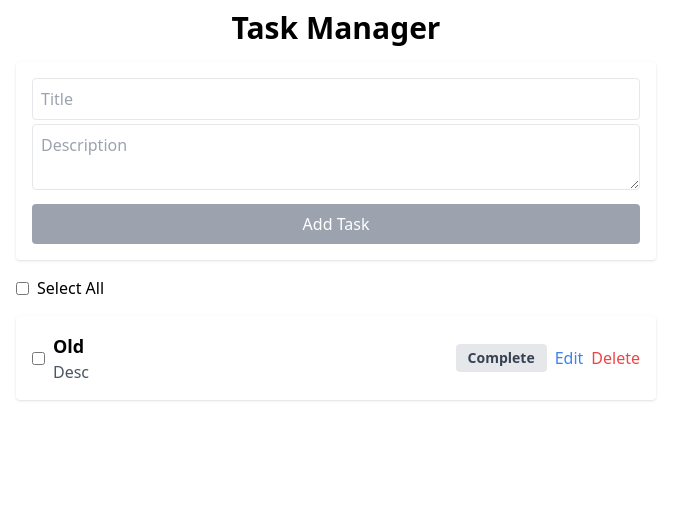
App Component › adds a new task and displays it
Type "Test Task" into the field with placeholder "Title" at (336, 99), box [32,78,640,120]
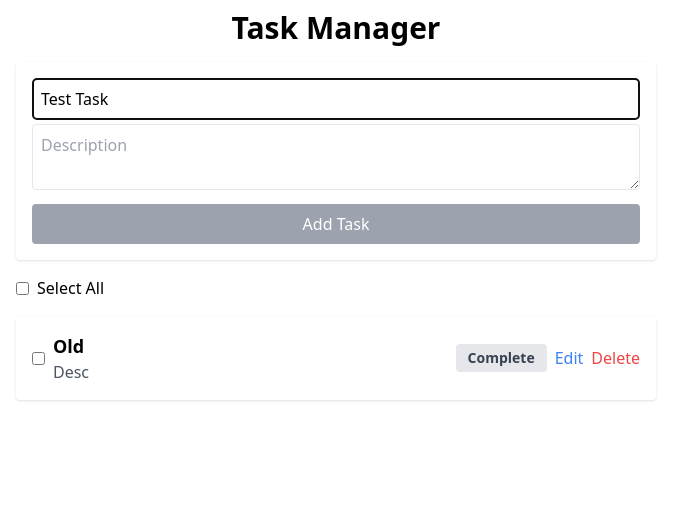
Type "Test Description" into the text box with placeholder "Description" at (336, 157), box [32,124,640,190]
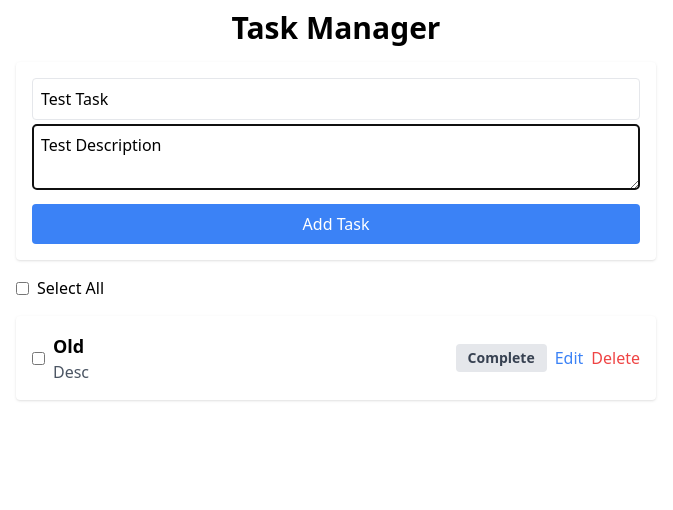
Click the button "Add Task" at (336, 224), box [32,204,640,244]
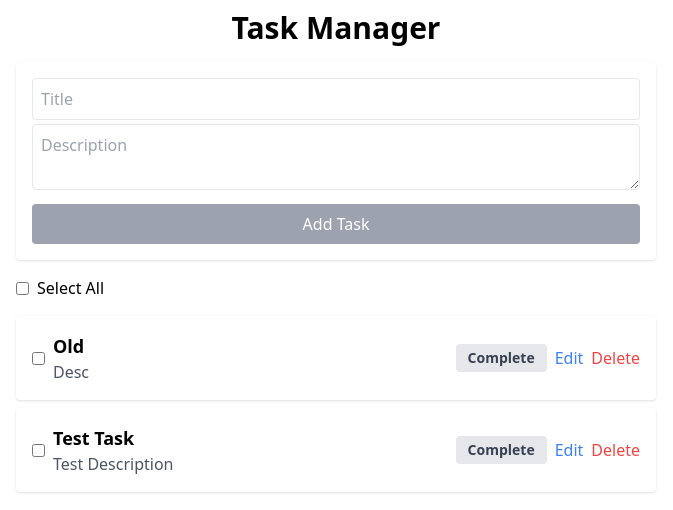
Expected: the heading "Test Task" is shown, [53,426,134,450]
Expected: the text "Test Description" is shown, [53,453,174,475]
